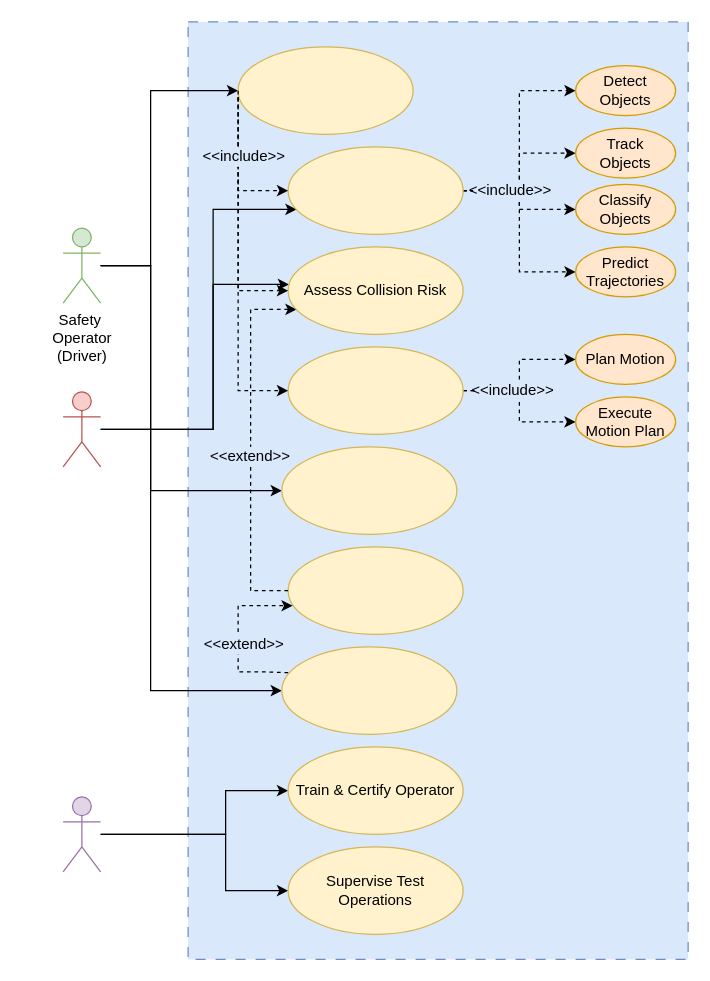
This 710x981 diagram has some shape labels left out. Each missing label, with the centre of its shape:
"Control Vehicle Motion" goes at point (375, 390).
"Engage/Disengage ADS" goes at point (369, 490).
"Operate in Autonomous Mode" goes at point (325, 90).
"Other Road Users" goes at point (81, 429).
"Percive Environment" goes at point (375, 190).
"Transfer Control to Operator" goes at point (369, 690).
"Trigger Emergency logic" goes at point (375, 590).
"Uber ATG Operations" goes at point (81, 834).
